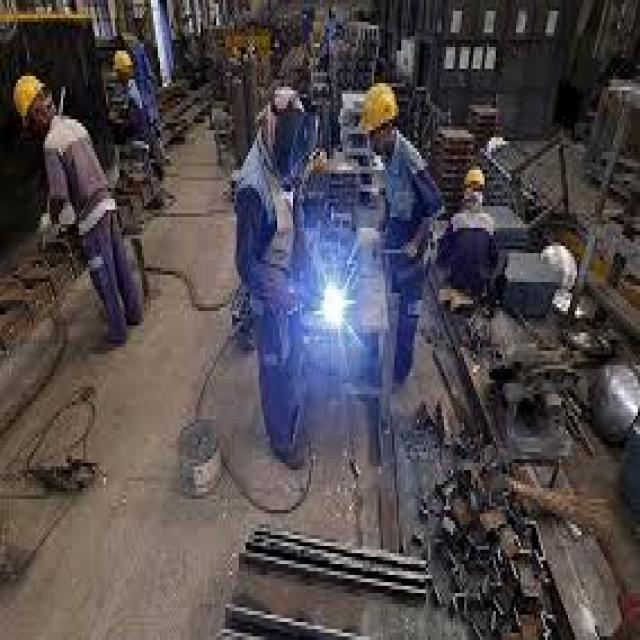Reflective-Jacket: (372, 145, 442, 264)
Safety-Helmet: (352, 72, 404, 141), (7, 65, 54, 130), (458, 155, 492, 199), (110, 44, 136, 80)
